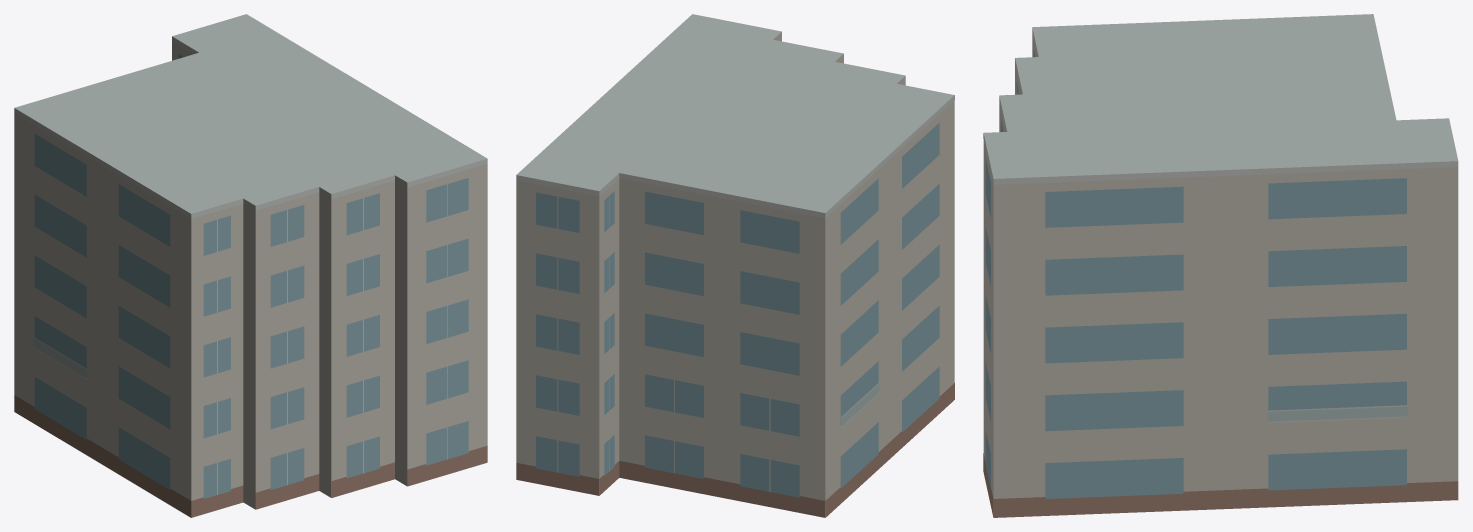
File: survey-upis-32757182.glb
3 renders of one model, left to right at view 1: azimuth 30°, elevation 25°; view 2: azimuth 150°, elevation 25°; view 3: azimuth 270°, elevation 25°, orthographic. The views are drawn at different scales.
Visible parts, largest first — view 1: survey-upis-32757182.tmp; view 2: survey-upis-32757182.tmp; view 3: survey-upis-32757182.tmp.
Boxes of the visible parts, x1,y1,x2,y2 form: survey-upis-32757182.tmp: (14, 14, 487, 517); survey-upis-32757182.tmp: (516, 14, 954, 517); survey-upis-32757182.tmp: (983, 14, 1458, 517).
Size of the model in its own units: 14.83 by 14.2 by 18.04.
